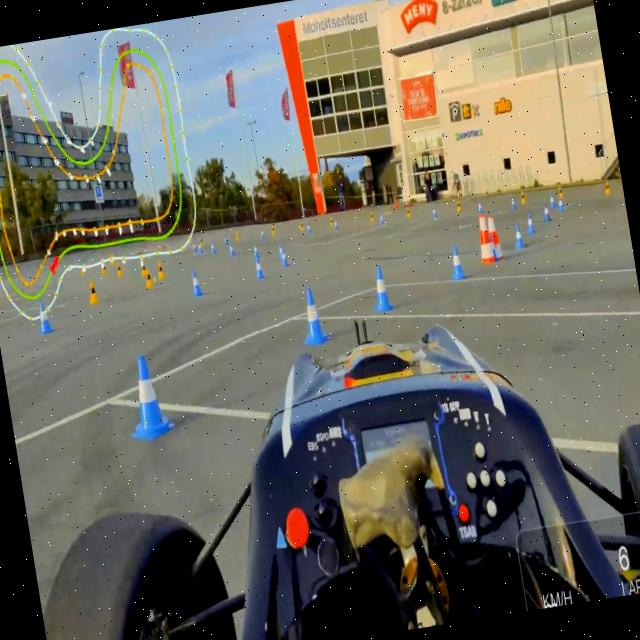blue_cone: (120, 352, 177, 444), (294, 284, 332, 346), (368, 266, 395, 313), (34, 300, 54, 334), (448, 245, 466, 280), (484, 230, 498, 262), (190, 268, 203, 298), (514, 222, 526, 248), (254, 256, 265, 280), (526, 212, 536, 234), (542, 202, 552, 221), (280, 249, 290, 267)
large_orange_cone: (474, 212, 496, 264), (485, 215, 504, 259)
yellow_cone: (88, 280, 100, 304), (143, 268, 154, 289), (157, 262, 166, 280), (140, 262, 149, 278)
